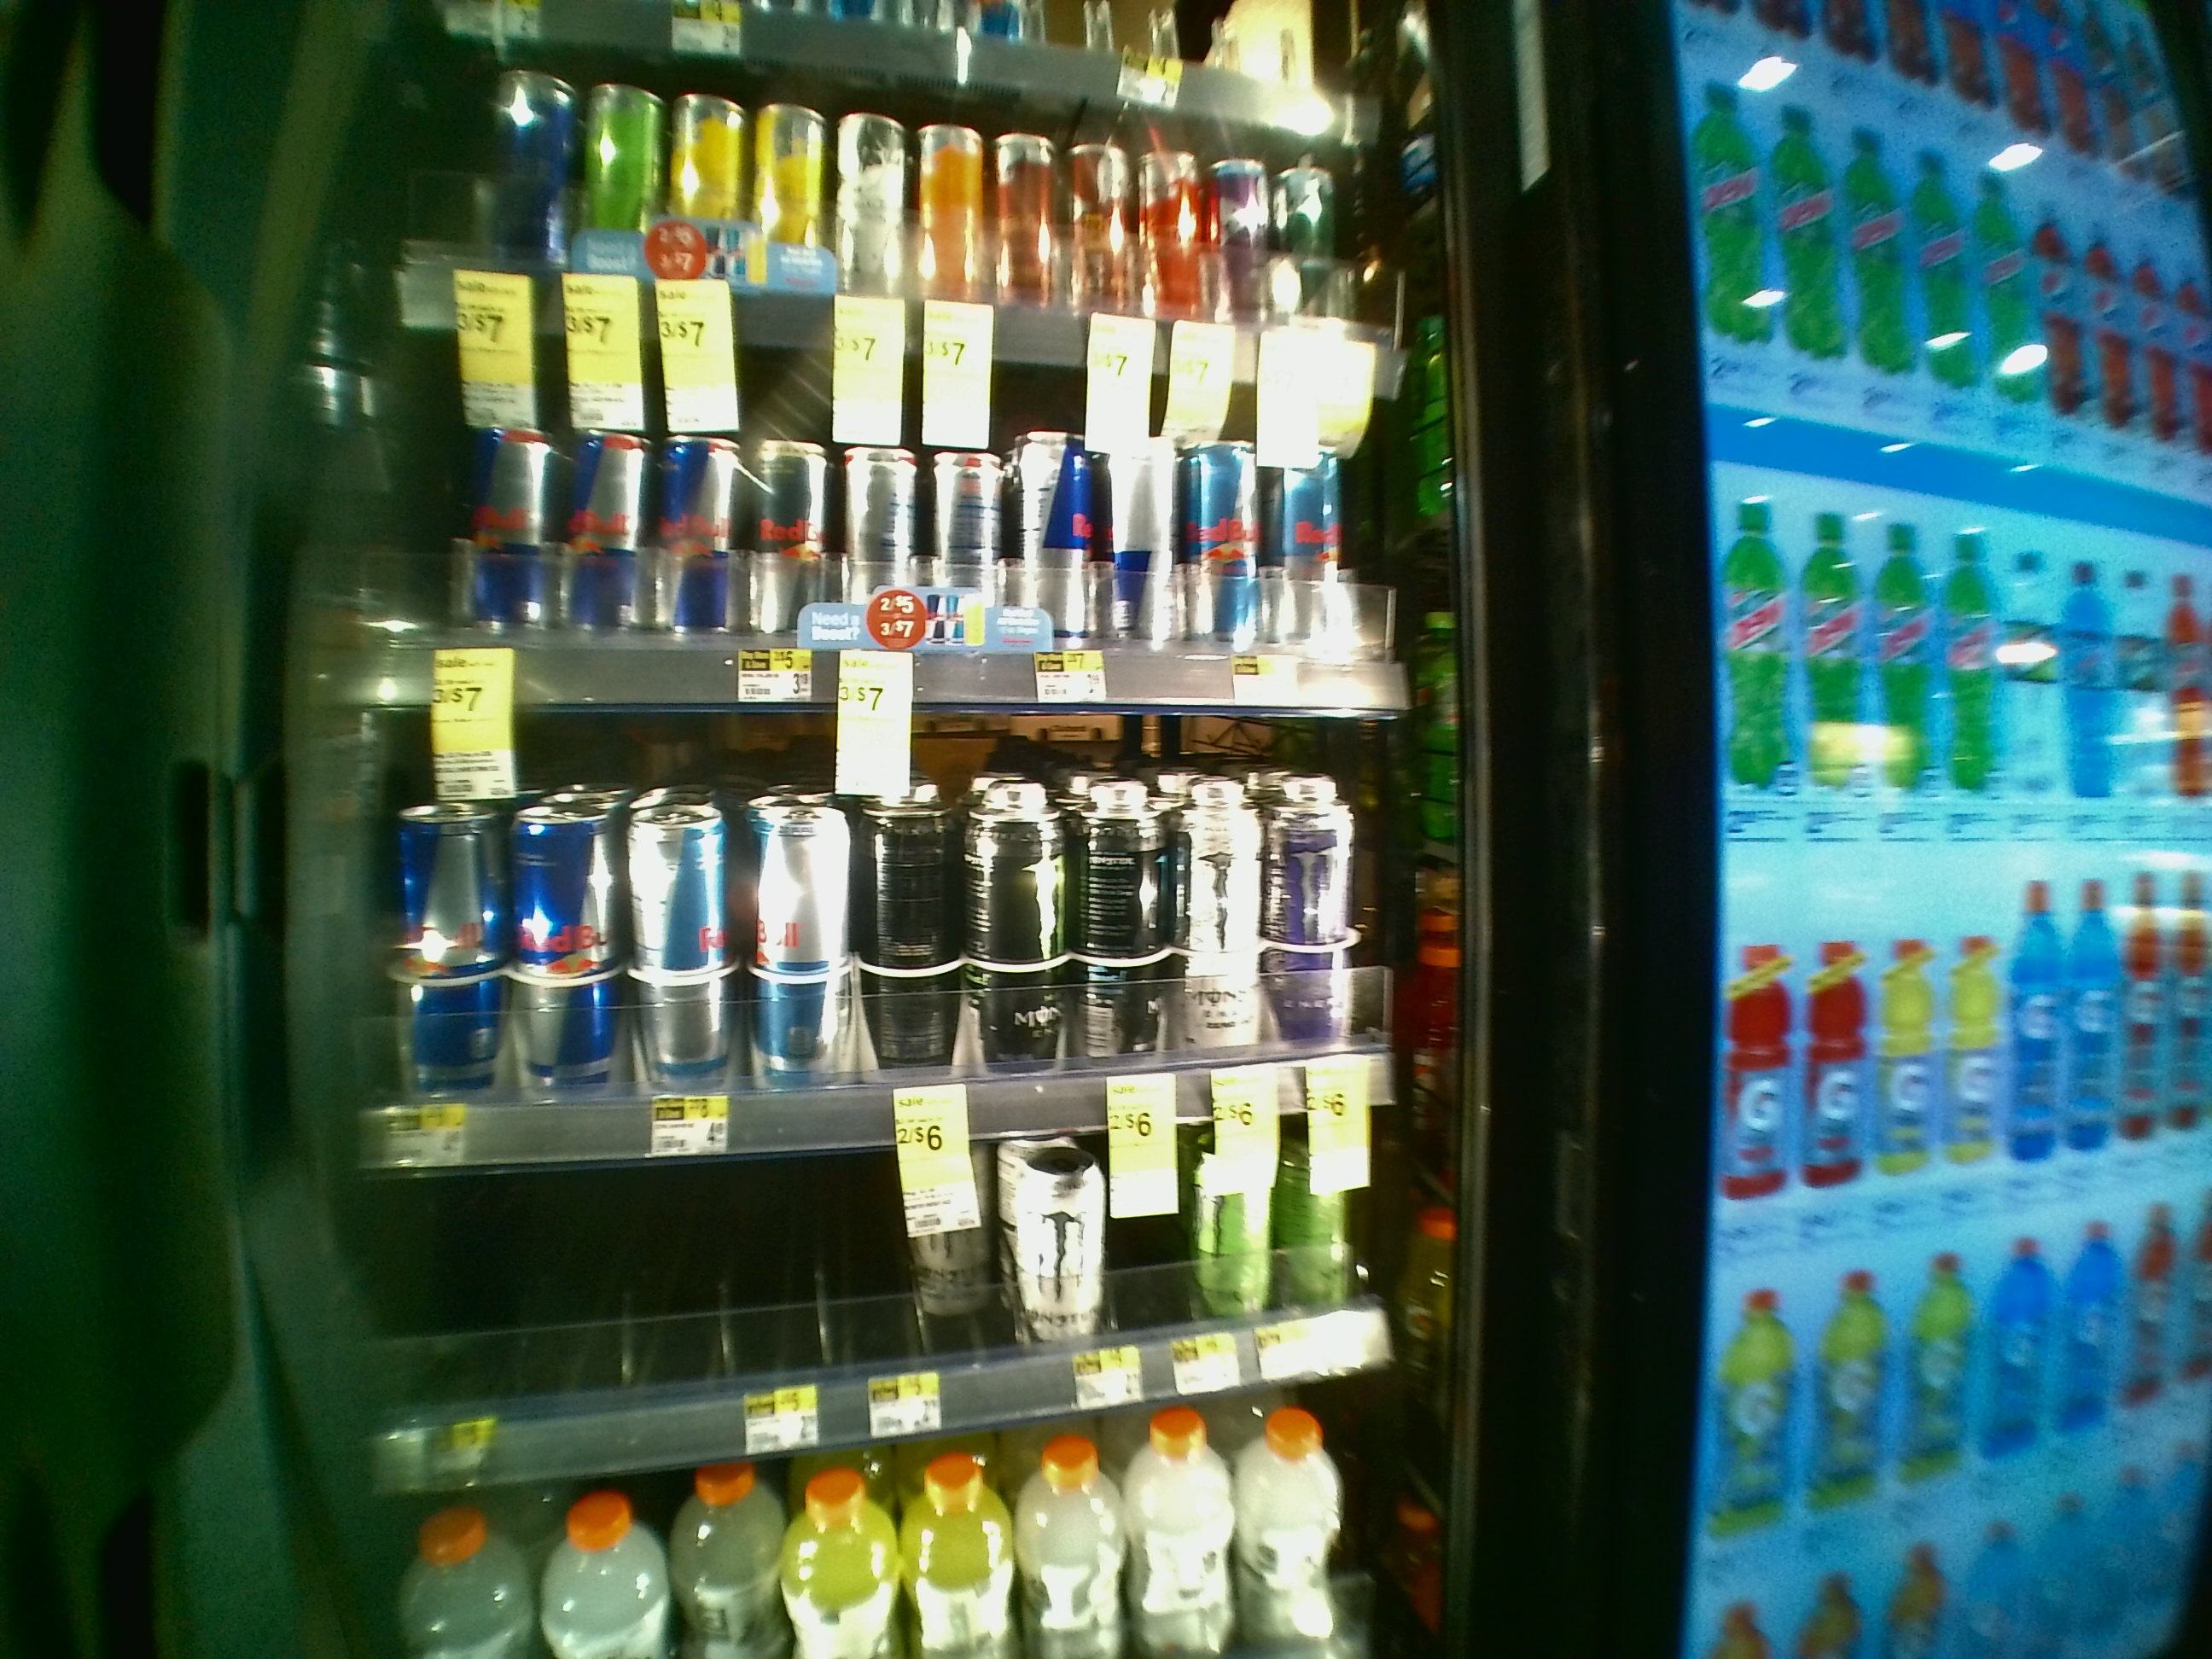shelf: (355, 704, 1474, 1155)
